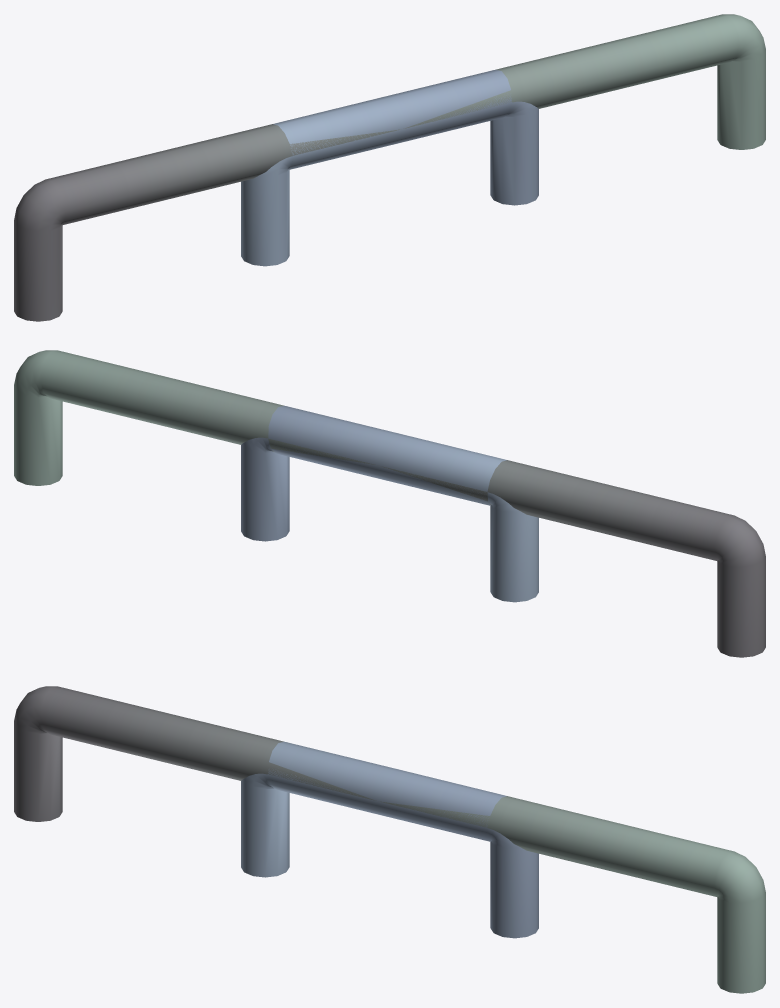
File: Obs_18.fbx
The picture shows the model from 3 angles, top to bottom: view 1: azimuth 30°, elevation 25°; view 2: azimuth 150°, elevation 25°; view 3: azimuth 330°, elevation 25°; orthographic projection.
Parts seen in each view (by area): view 1: Obs_18_Big, Obs_18_Small; view 2: Obs_18_Big, Obs_18_Small; view 3: Obs_18_Big, Obs_18_Small.
Boxes of the visible parts, x1,y1,x2,y2 form: Obs_18_Big: [14, 14, 765, 321]; Obs_18_Small: [241, 69, 538, 266]; Obs_18_Big: [14, 350, 765, 657]; Obs_18_Small: [241, 405, 538, 602]; Obs_18_Big: [14, 686, 765, 993]; Obs_18_Small: [241, 741, 538, 938].
Size of the model in its own units: 2.12 by 0.3461 by 0.12.
